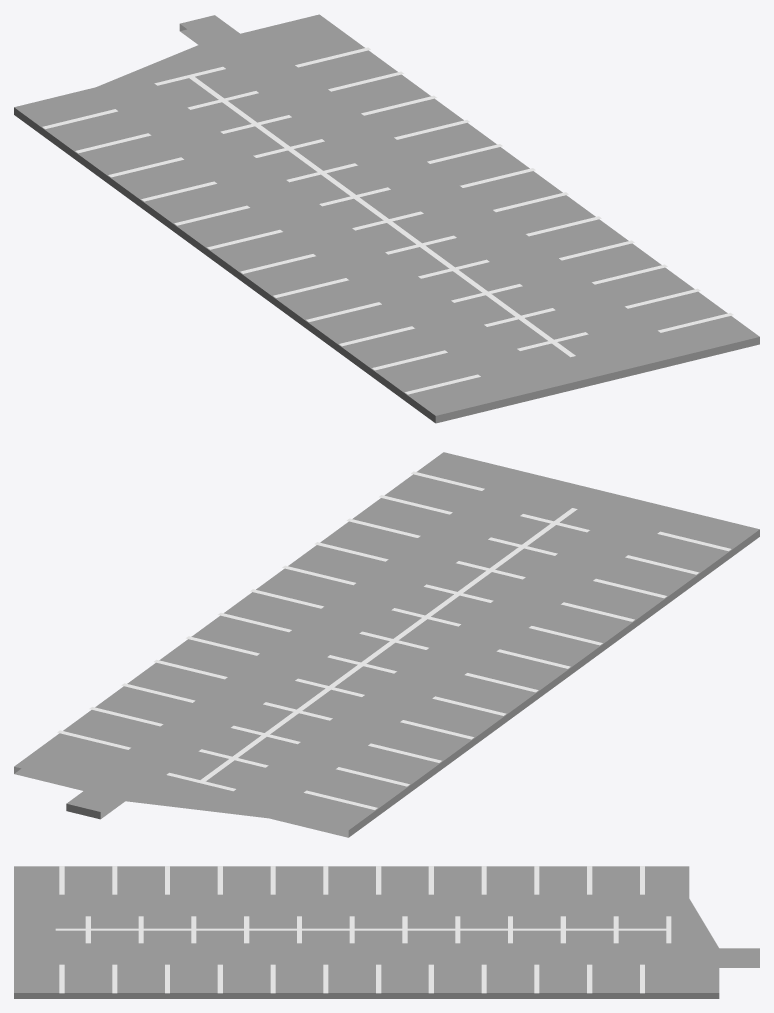
File: Parking_Lot.fbx
The picture shows the model from 3 angles, top to bottom: view 1: azimuth 30°, elevation 25°; view 2: azimuth 150°, elevation 25°; view 3: azimuth 270°, elevation 25°; orthographic projection. The views are drawn at different scales.
Parts seen in each view (by area): view 1: ParkingLot; view 2: ParkingLot; view 3: ParkingLot.
Boxes of the visible parts, bbox=[...] form: ParkingLot: bbox=[14, 14, 759, 423]; ParkingLot: bbox=[14, 452, 759, 837]; ParkingLot: bbox=[14, 866, 759, 998].
Bounding box in the file's own units: 1716 × 40.33 × 4241.
2 materials, 2 textured.
